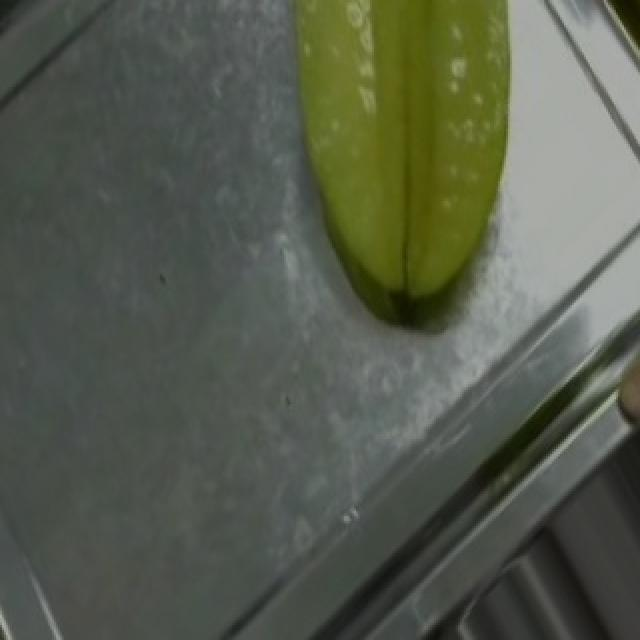fruit: (244, 0, 622, 340)
